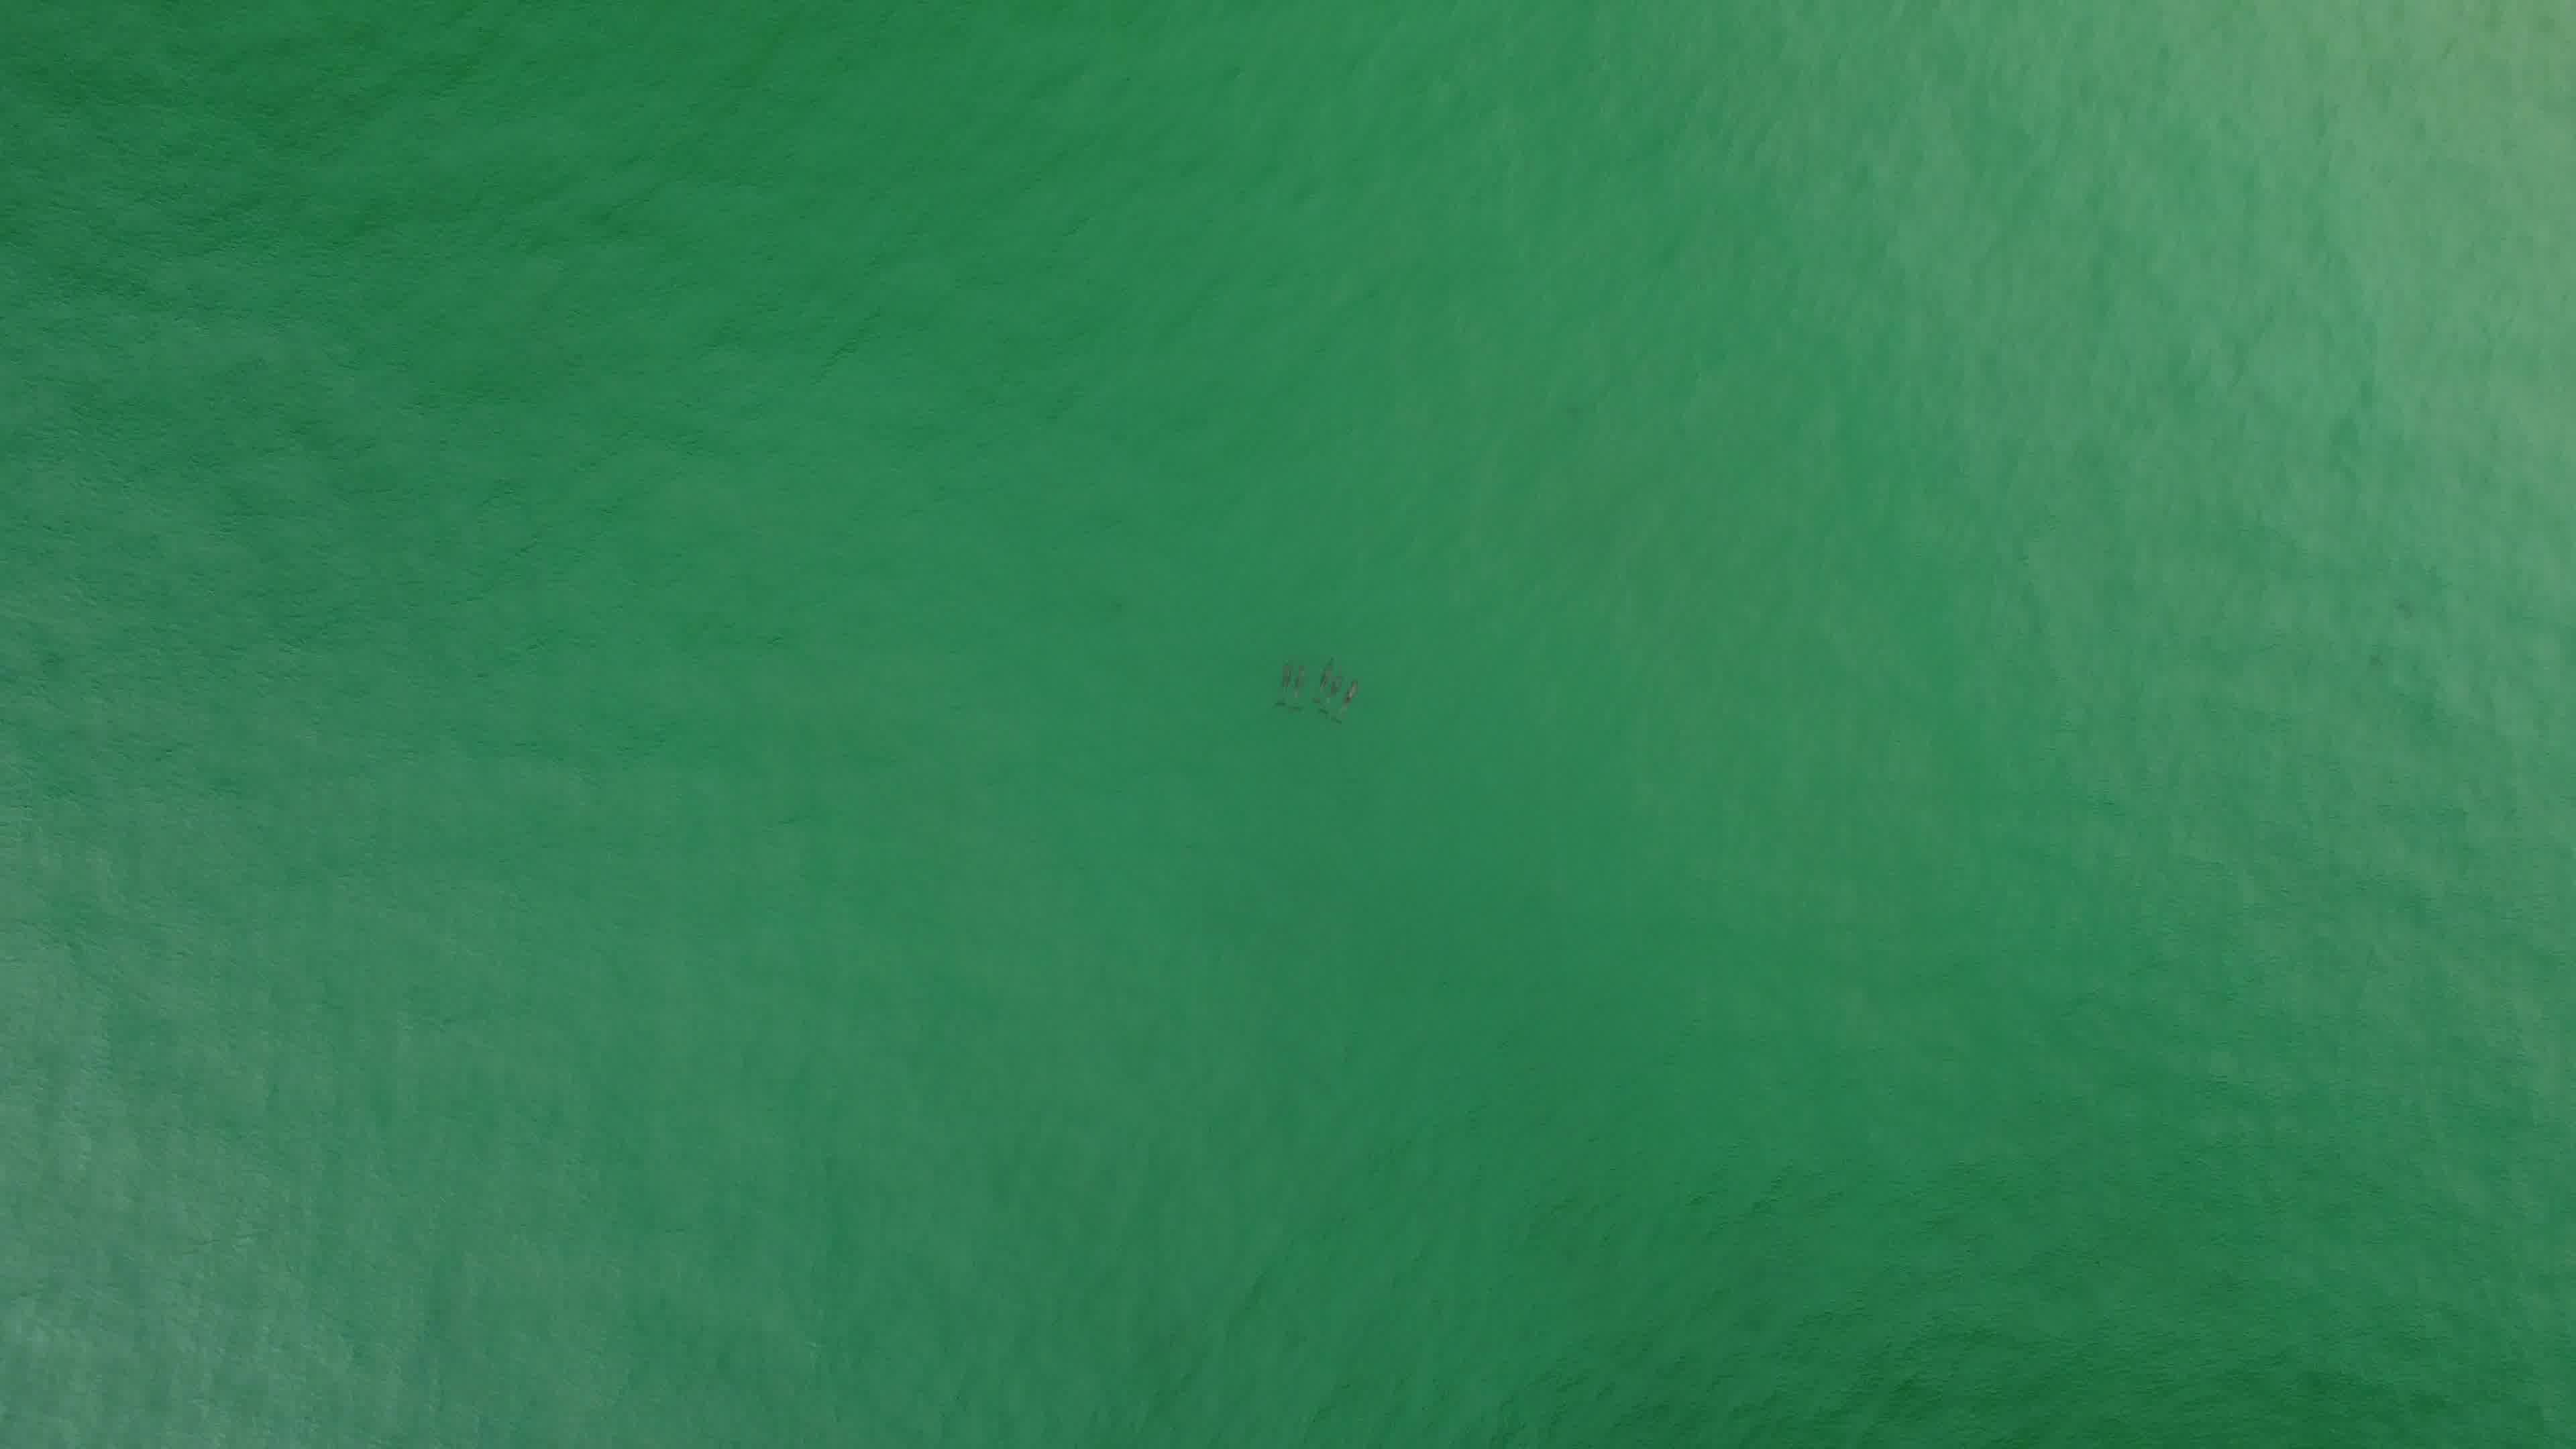dolphin: (1334, 665, 1371, 732), (1307, 646, 1334, 713), (1286, 649, 1307, 715), (1269, 655, 1293, 709), (1325, 655, 1345, 713)
